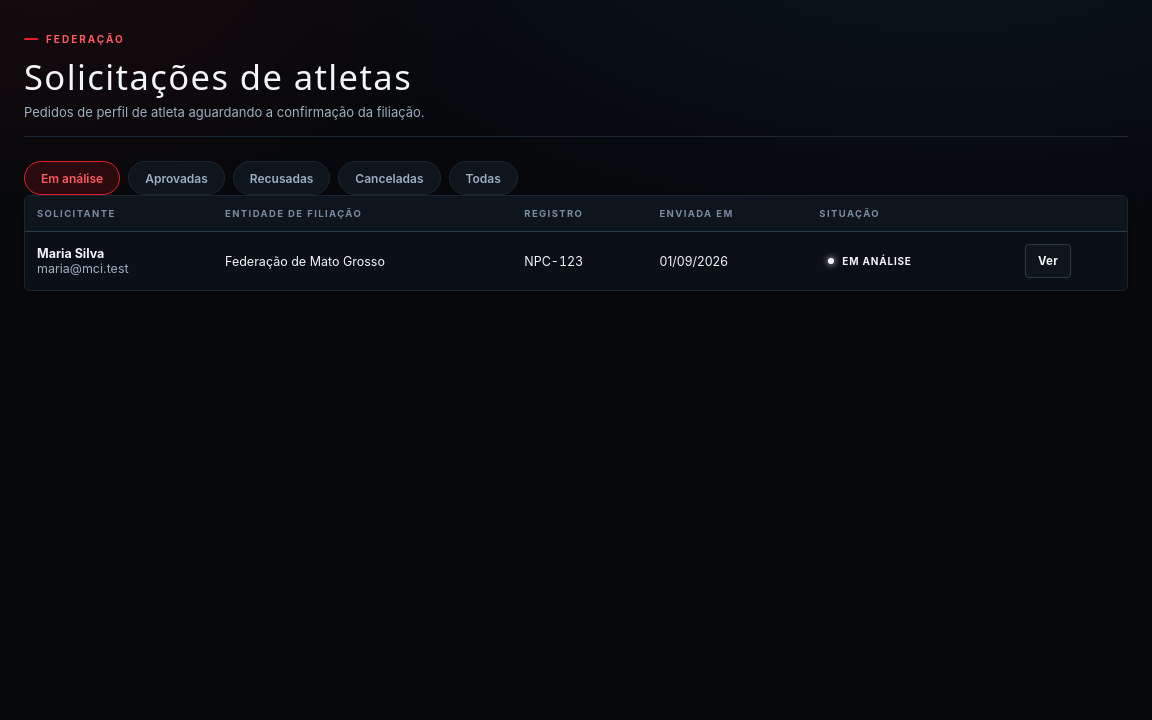
Test: fila do operador › o CPF só aparece ao abrir UM pedido, e vai pelo corpo — nunca na URL
The width and height of the screenshot is (1152, 720).
Click the button "Ver".
click(1048, 261)  # box x1=1025 y1=244 x2=1071 y2=278
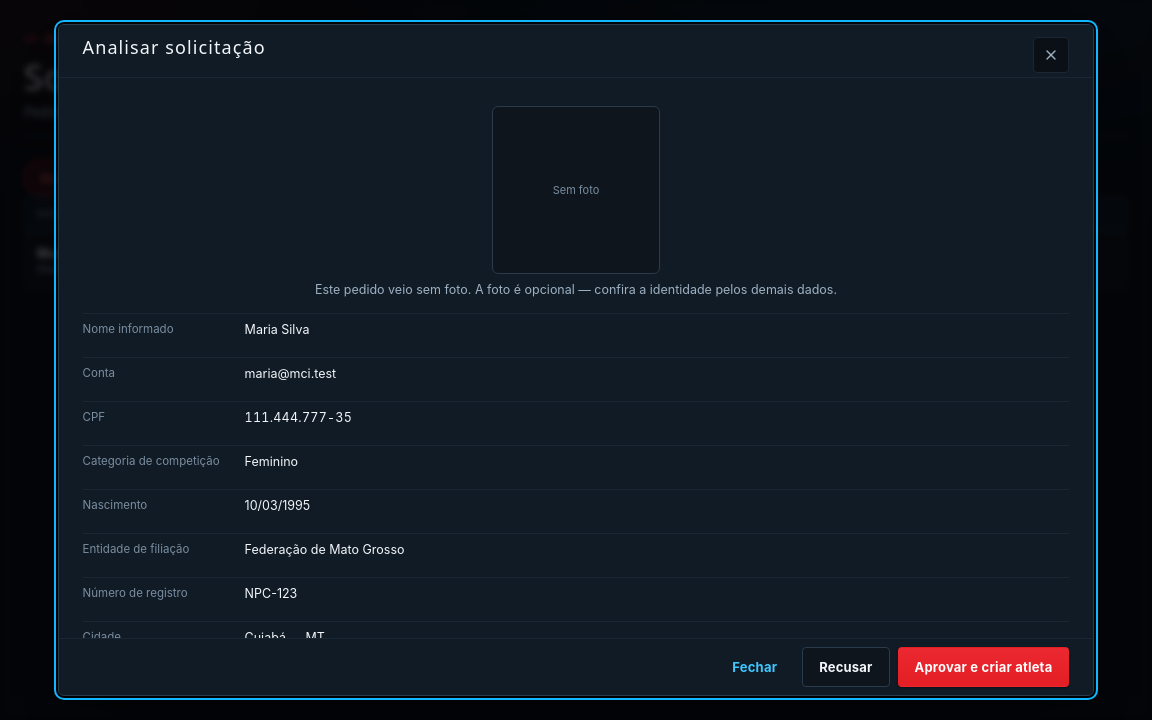
Check: the text "111.444.777-35" is shown, box x1=245 y1=410 x2=352 y2=425
